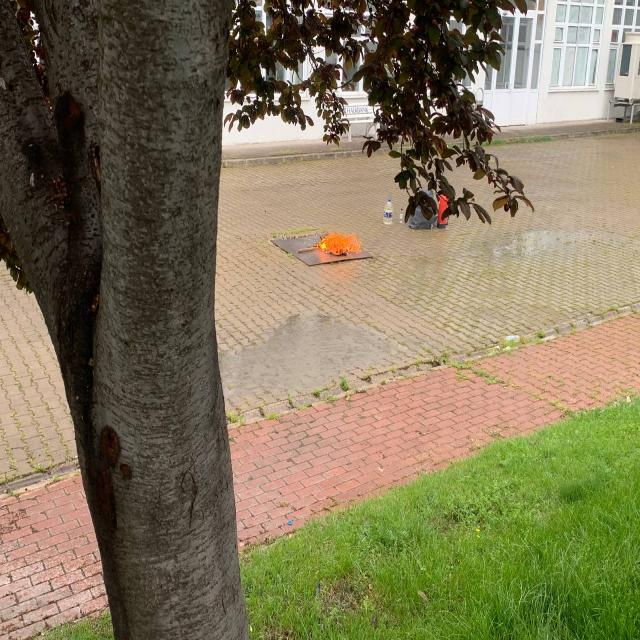fire: (318, 225, 365, 262)
